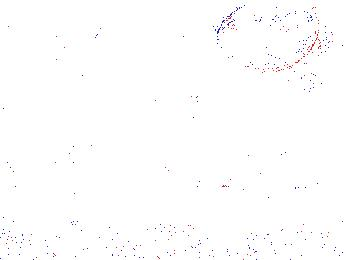moon jellyfish: (217, 1, 320, 75), (55, 25, 106, 91), (278, 40, 340, 91), (28, 1, 114, 28), (1, 35, 23, 98)
